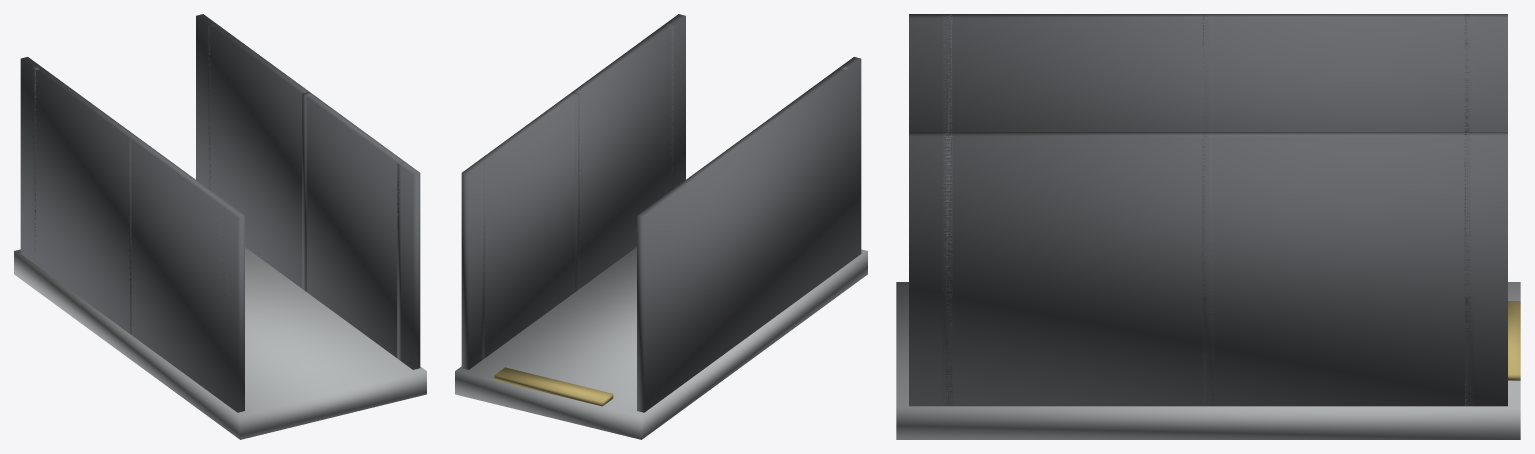
The model's file is floor_w100_d210_sides.glb.
3 renders of one model, left to right at view 1: azimuth 30°, elevation 25°; view 2: azimuth 150°, elevation 25°; view 3: azimuth 270°, elevation 25°, orthographic. The views are drawn at different scales.
Visible parts, largest first — view 1: world; view 2: world; view 3: world.
Boxes of the visible parts, x1,y1,x2,y2 form: world: (14,14,426,439); world: (455,14,867,439); world: (896,14,1520,439).
Bounding box in the file's own units: 1 × 1.12 × 2.1.
